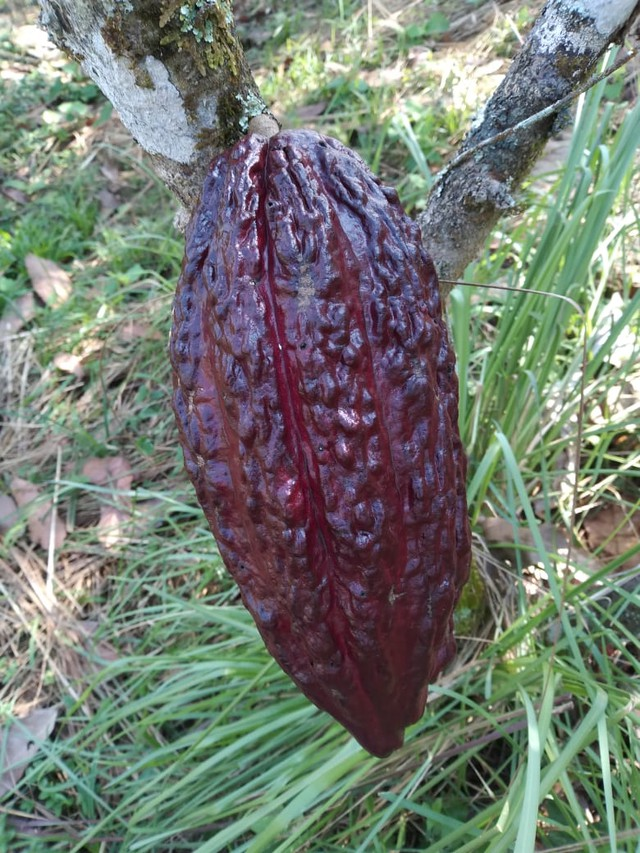Health: (159, 121, 482, 764)
